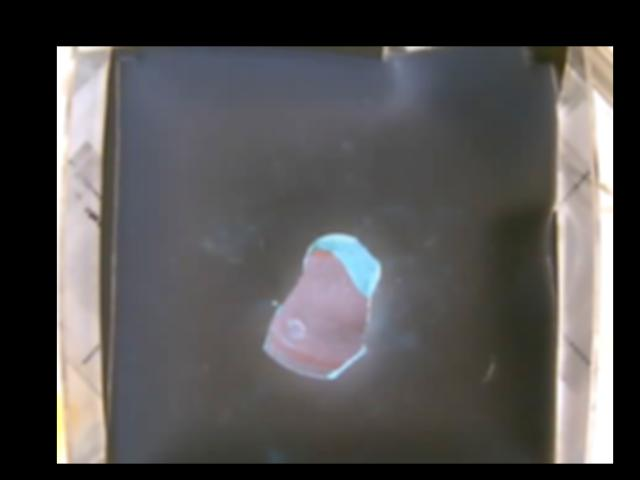China: (262, 230, 376, 376)
